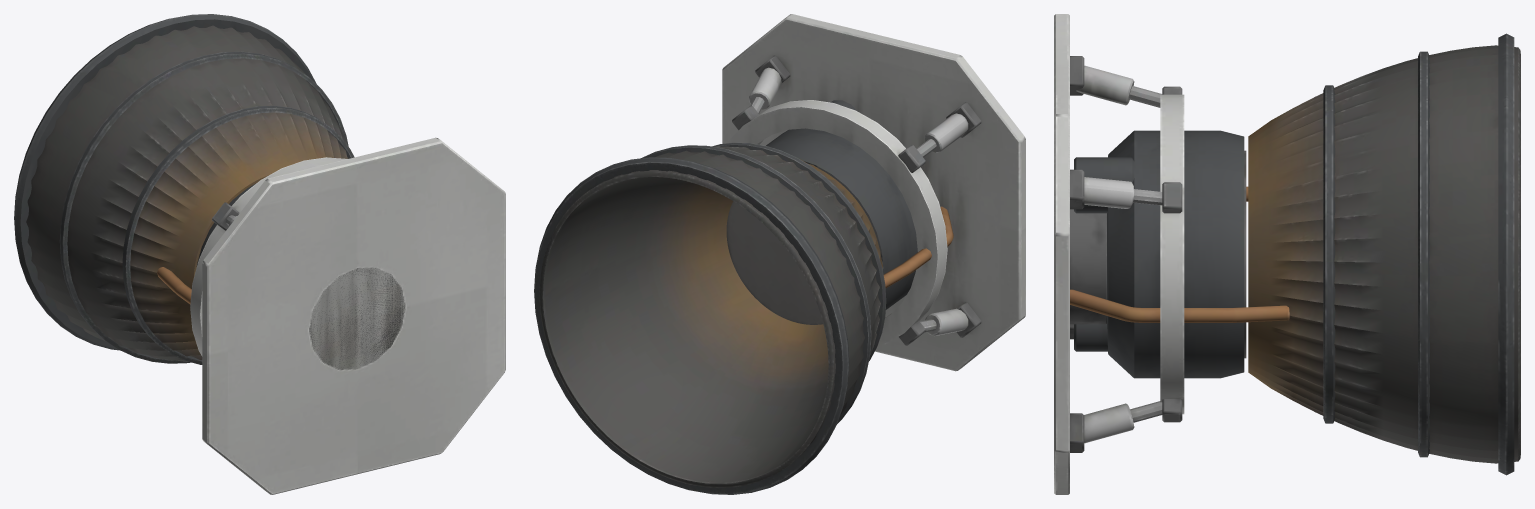
Rendered from bell-M.glb.
3 views of the same model, side by side, from view 1: azimuth 30°, elevation 25°; view 2: azimuth 150°, elevation 25°; view 3: azimuth 270°, elevation 25° (orthographic). The views are drawn at different scales.
Parts seen in each view (by area): view 1: bell-M; view 2: bell-M; view 3: bell-M.
Boxes of the visible parts, x1,y1,x2,y2 form: bell-M: [14, 14, 505, 494]; bell-M: [534, 14, 1025, 494]; bell-M: [1054, 14, 1520, 494].
Size of the model in its own units: 4.86 by 4.86 by 5.13.
Materials: 1 (1 with a texture image).
